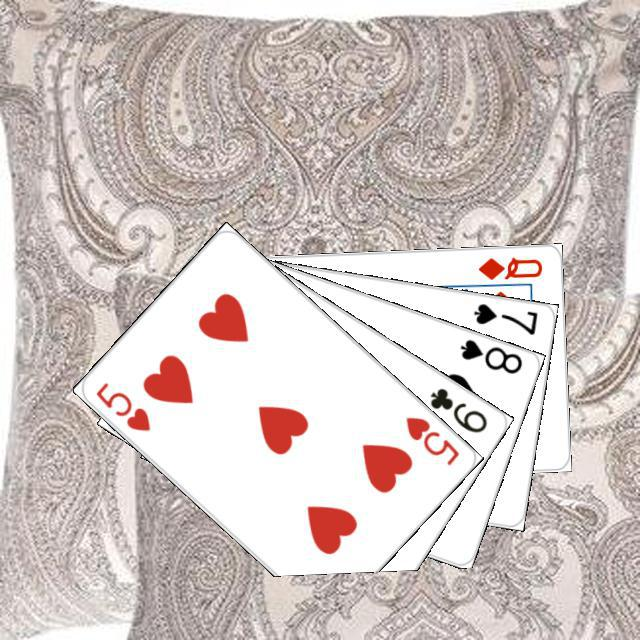5h: (90, 377, 152, 433), (400, 411, 461, 467)
7s: (468, 298, 539, 337)
8s: (455, 334, 524, 376)
9c: (425, 383, 489, 435)
Qd: (473, 252, 544, 282)
